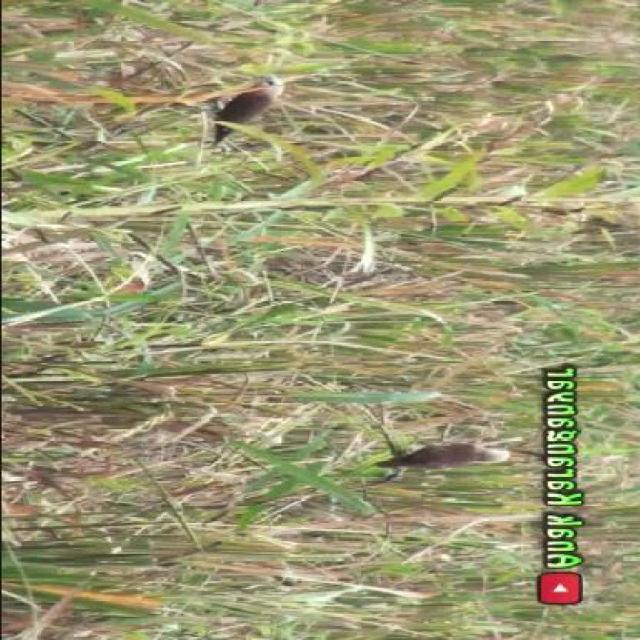Bird: (211, 74, 285, 149), (373, 443, 513, 471)
